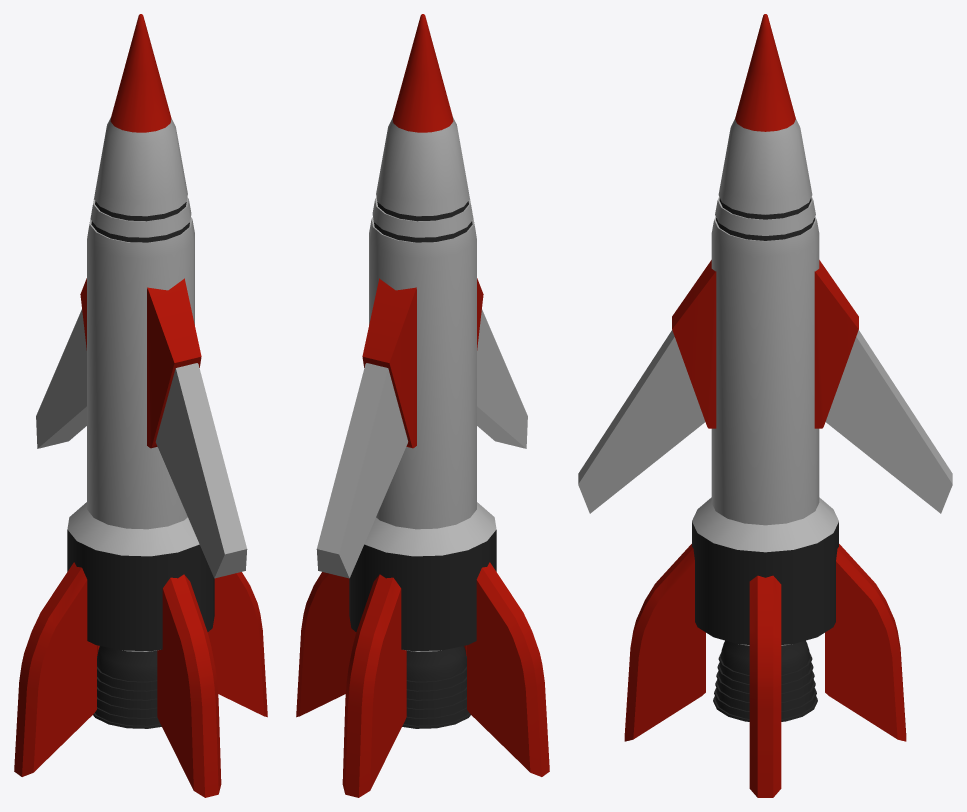
The model's file is NewRocket.fbx.
The picture shows the model from 3 angles, left to right: view 1: azimuth 30°, elevation 25°; view 2: azimuth 150°, elevation 25°; view 3: azimuth 270°, elevation 25°; orthographic projection.
Parts seen in each view (by area): view 1: Cylinder, Cube.001, Cube, Cylinder.001; view 2: Cylinder, Cube.001, Cube, Cylinder.001; view 3: Cylinder, Cube, Cube.001, Cylinder.001.
Boxes of the visible parts, x1,y1,x2,y2 form: Cylinder: (67,14,214,651); Cube.001: (14,562,267,797); Cube: (36,278,247,578); Cylinder.001: (93,646,161,728); Cylinder: (349,14,496,651); Cube.001: (296,562,549,797); Cube: (316,278,527,578); Cylinder.001: (402,646,470,728); Cylinder: (692,14,838,645); Cube: (578,260,952,513); Cube.001: (624,544,906,797); Cylinder.001: (713,640,817,721).
Bounding box in the file's own units: 150 × 426 × 200.
